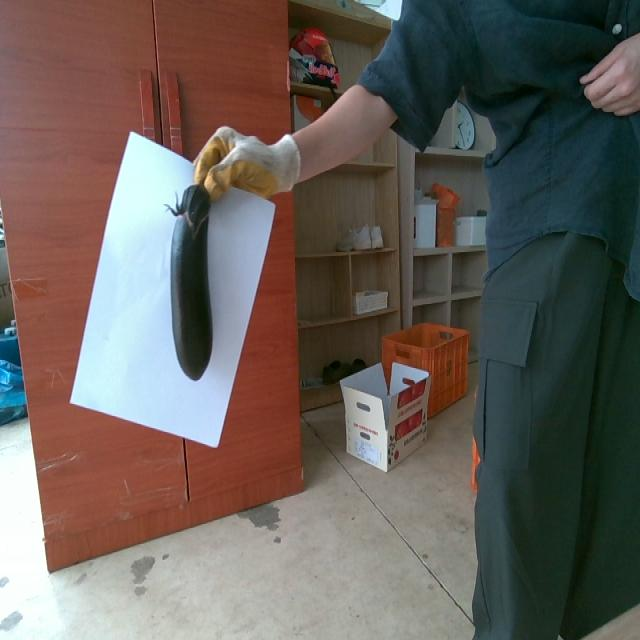Egg plant: (171, 185, 212, 379), (188, 200, 204, 223)
